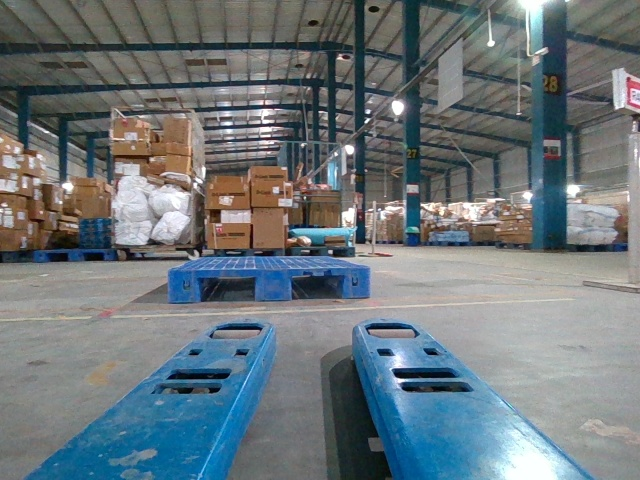block: (167, 270, 206, 305), (256, 271, 295, 302), (345, 270, 373, 300)
front: (169, 270, 372, 305)
hole pallet: (288, 276, 349, 301), (201, 277, 255, 300)
